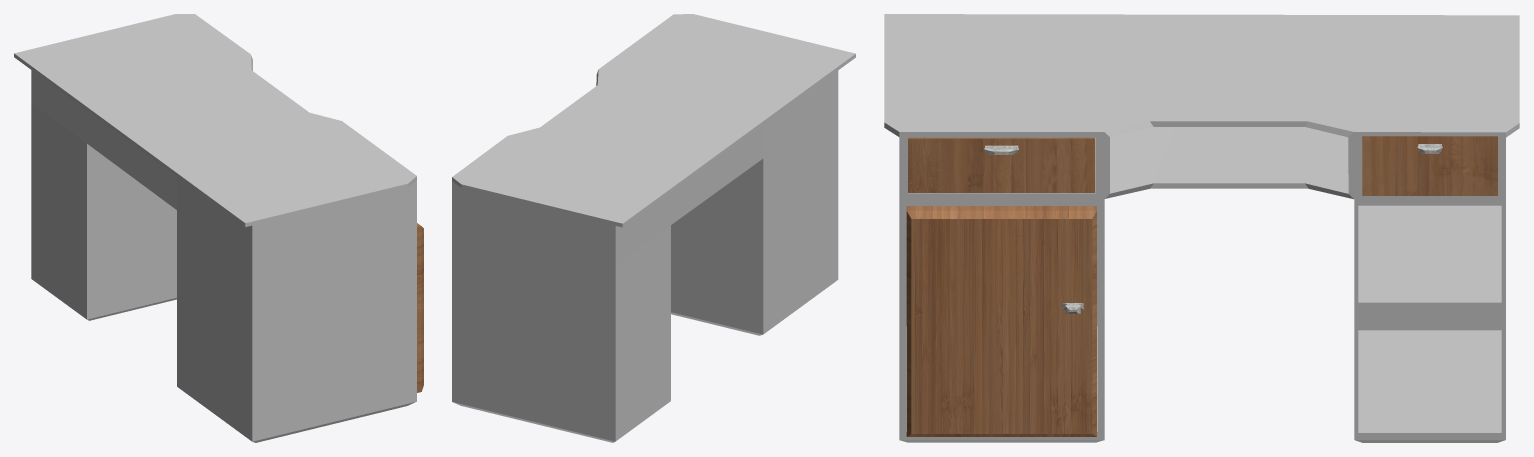
The model's file is desk.fbx.
3 views of the same model, side by side, from view 1: azimuth 30°, elevation 25°; view 2: azimuth 150°, elevation 25°; view 3: azimuth 270°, elevation 25° (orthographic). The views are drawn at different scales.
Parts seen in each view (by area): view 1: Desk, Door; view 2: Desk; view 3: Desk, Door, Drawer1, Drawer2.
Part boxes in pixels (<box>): Desk: <box>14,14,416,442</box>; Door: <box>417,223,423,392</box>; Desk: <box>452,14,855,442</box>; Desk: <box>884,14,1519,442</box>; Door: <box>906,206,1096,436</box>; Drawer1: <box>908,137,1095,192</box>; Drawer2: <box>1362,136,1497,195</box>.
Size of the model in its own units: 2.13 by 2.41 by 4.41.
